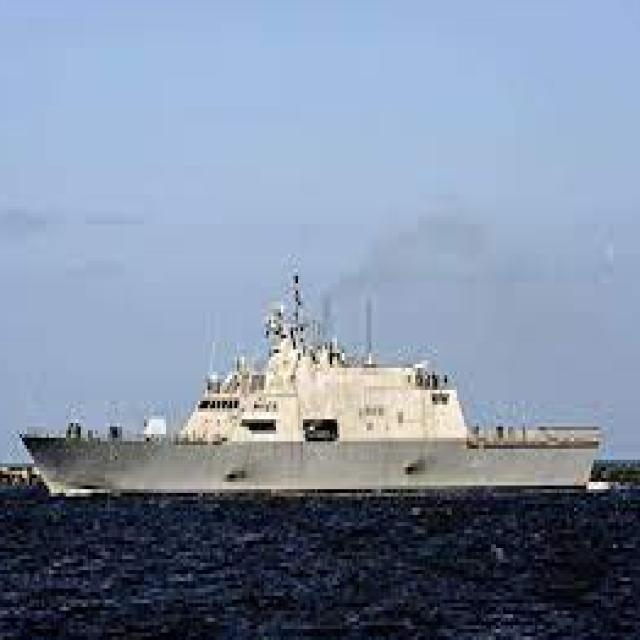navalvessels: (20, 294, 627, 508)
